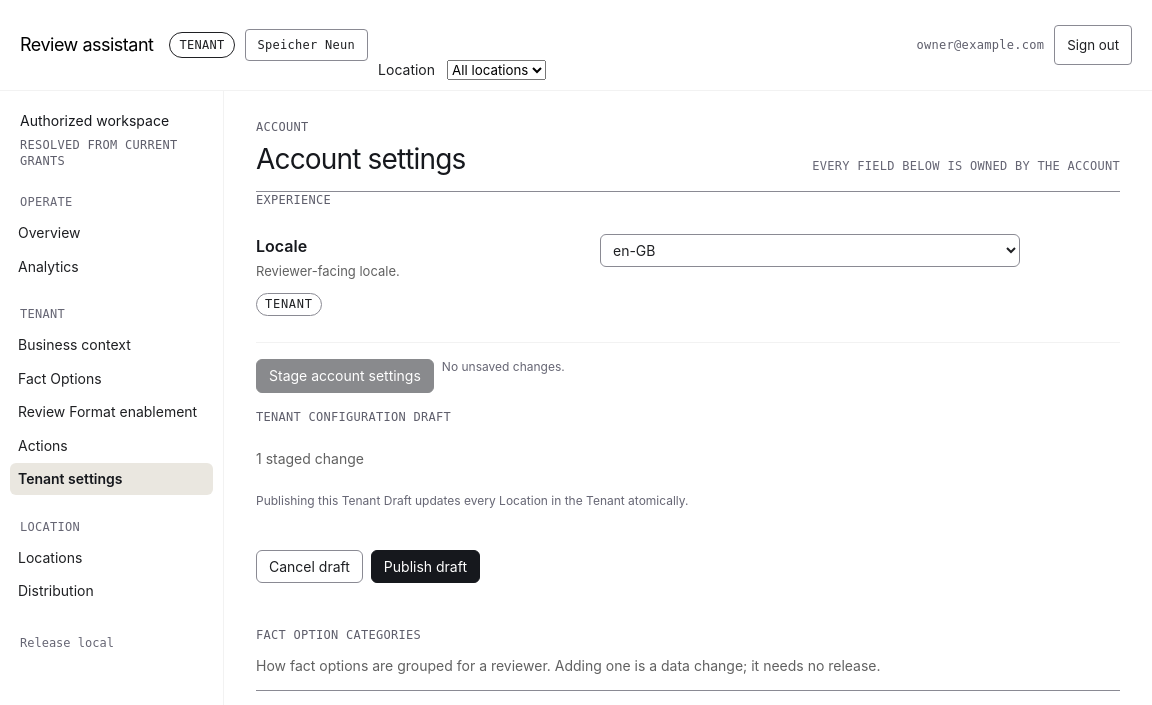
Test: Tenant and Location configuration Drafts › shows INVALID_VALUE publication failure without hiding the Draft
Step 1. Click the button "Publish draft" → [425, 567], box [371, 550, 480, 583]
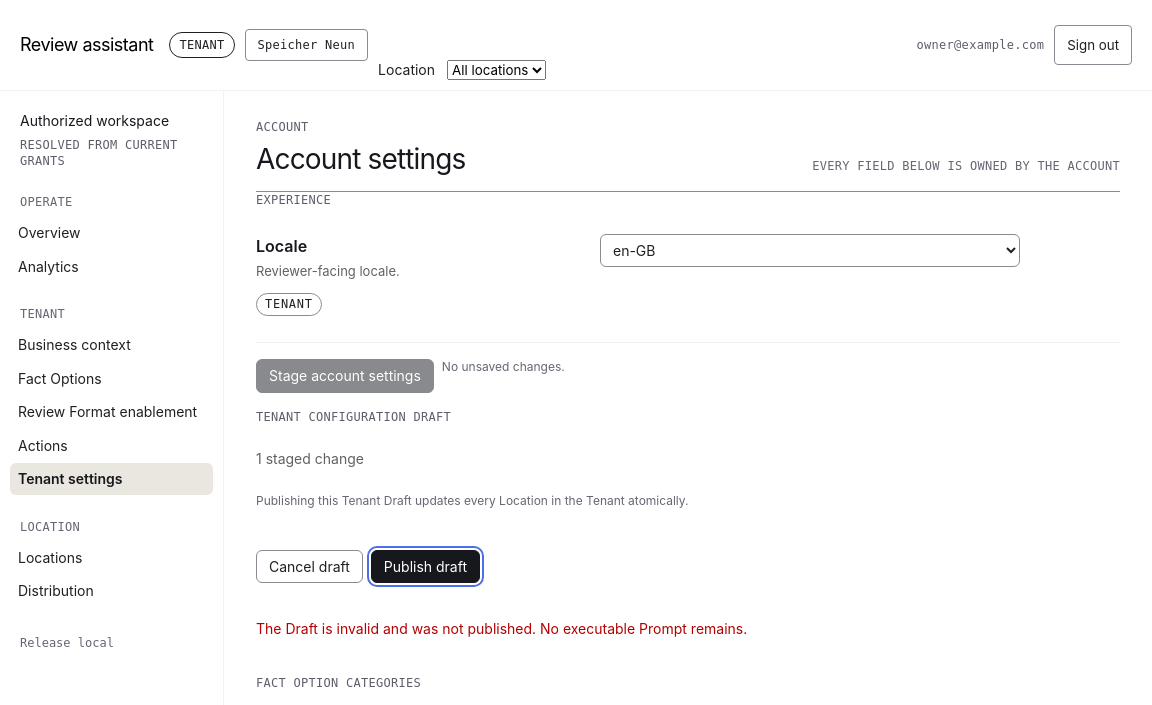
Check: the text "1 staged change" is shown, box [256, 450, 364, 467]
Check: the text "The Draft is invalid and was not published. No executable Prompt remains." is shown, box [256, 620, 747, 637]
